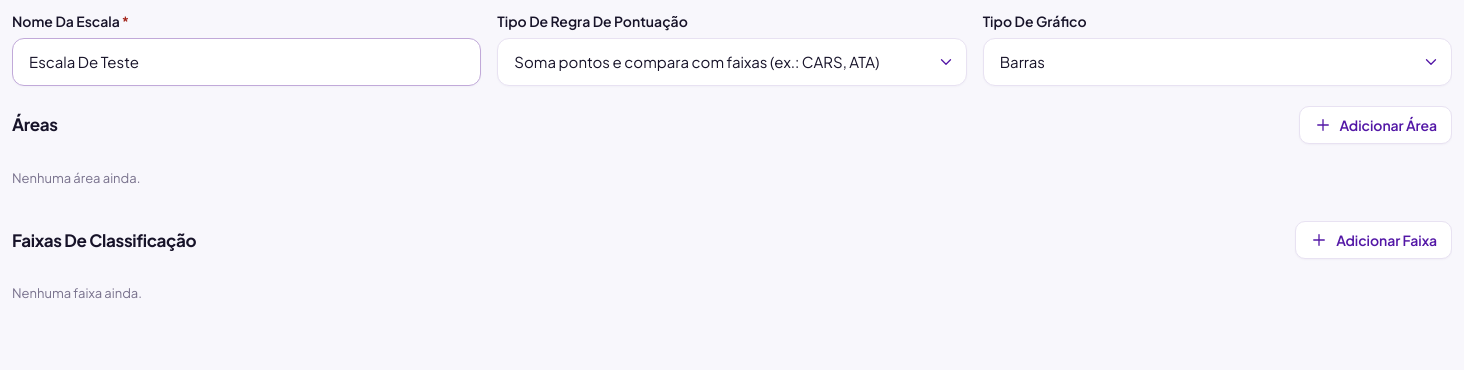
Test: TemplateBuilder › adicionar uma faixa de classificação faz ela aparecer na tela
The width and height of the screenshot is (1464, 370).
Click the button "Adicionar Faixa" at [1374, 240], box [1295,221,1452,259]
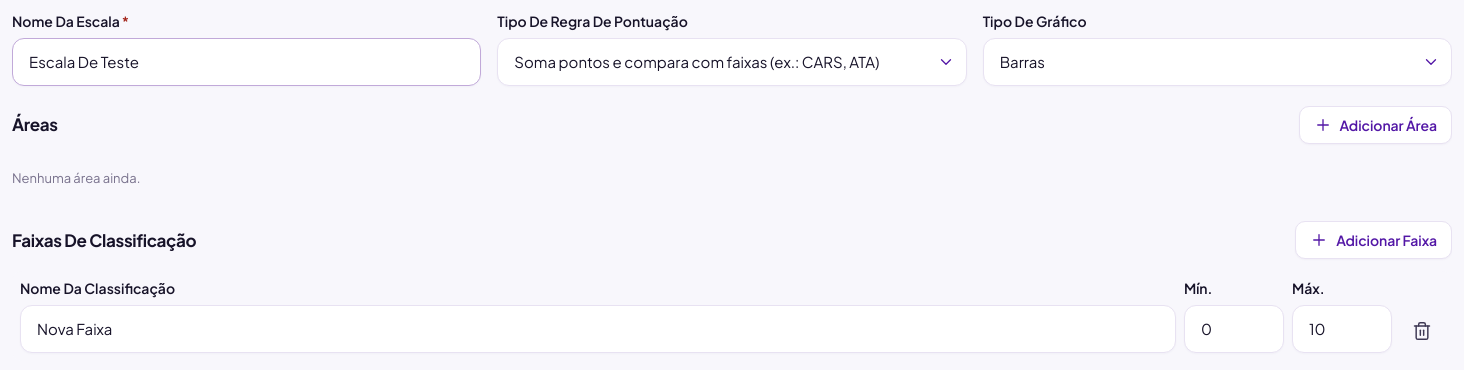
Expected: the field showing "Nova Faixa" is shown, [20,305,1176,353]
